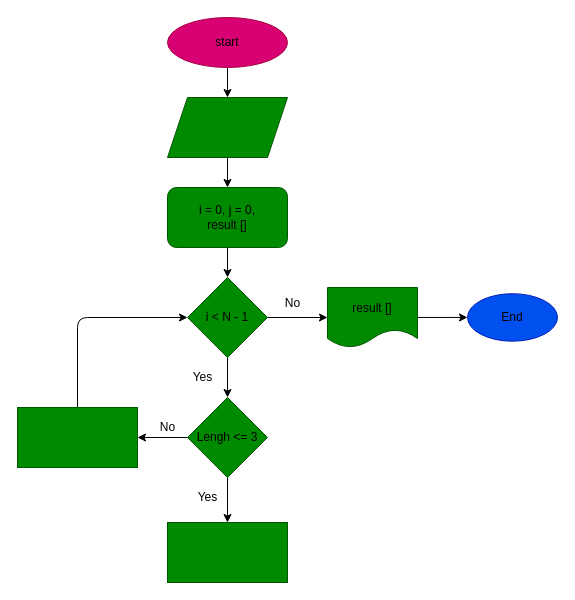
Image size: 575x600. Some labels were removed from this diagram. Each missing label, with the centre of its shape:
"Array [I], N" belongs at (x=227, y=127).
"i = i + 1" belongs at (x=77, y=437).
"result [j] = array [i]; j = j + 1; i = i +1" belongs at (x=227, y=552).
